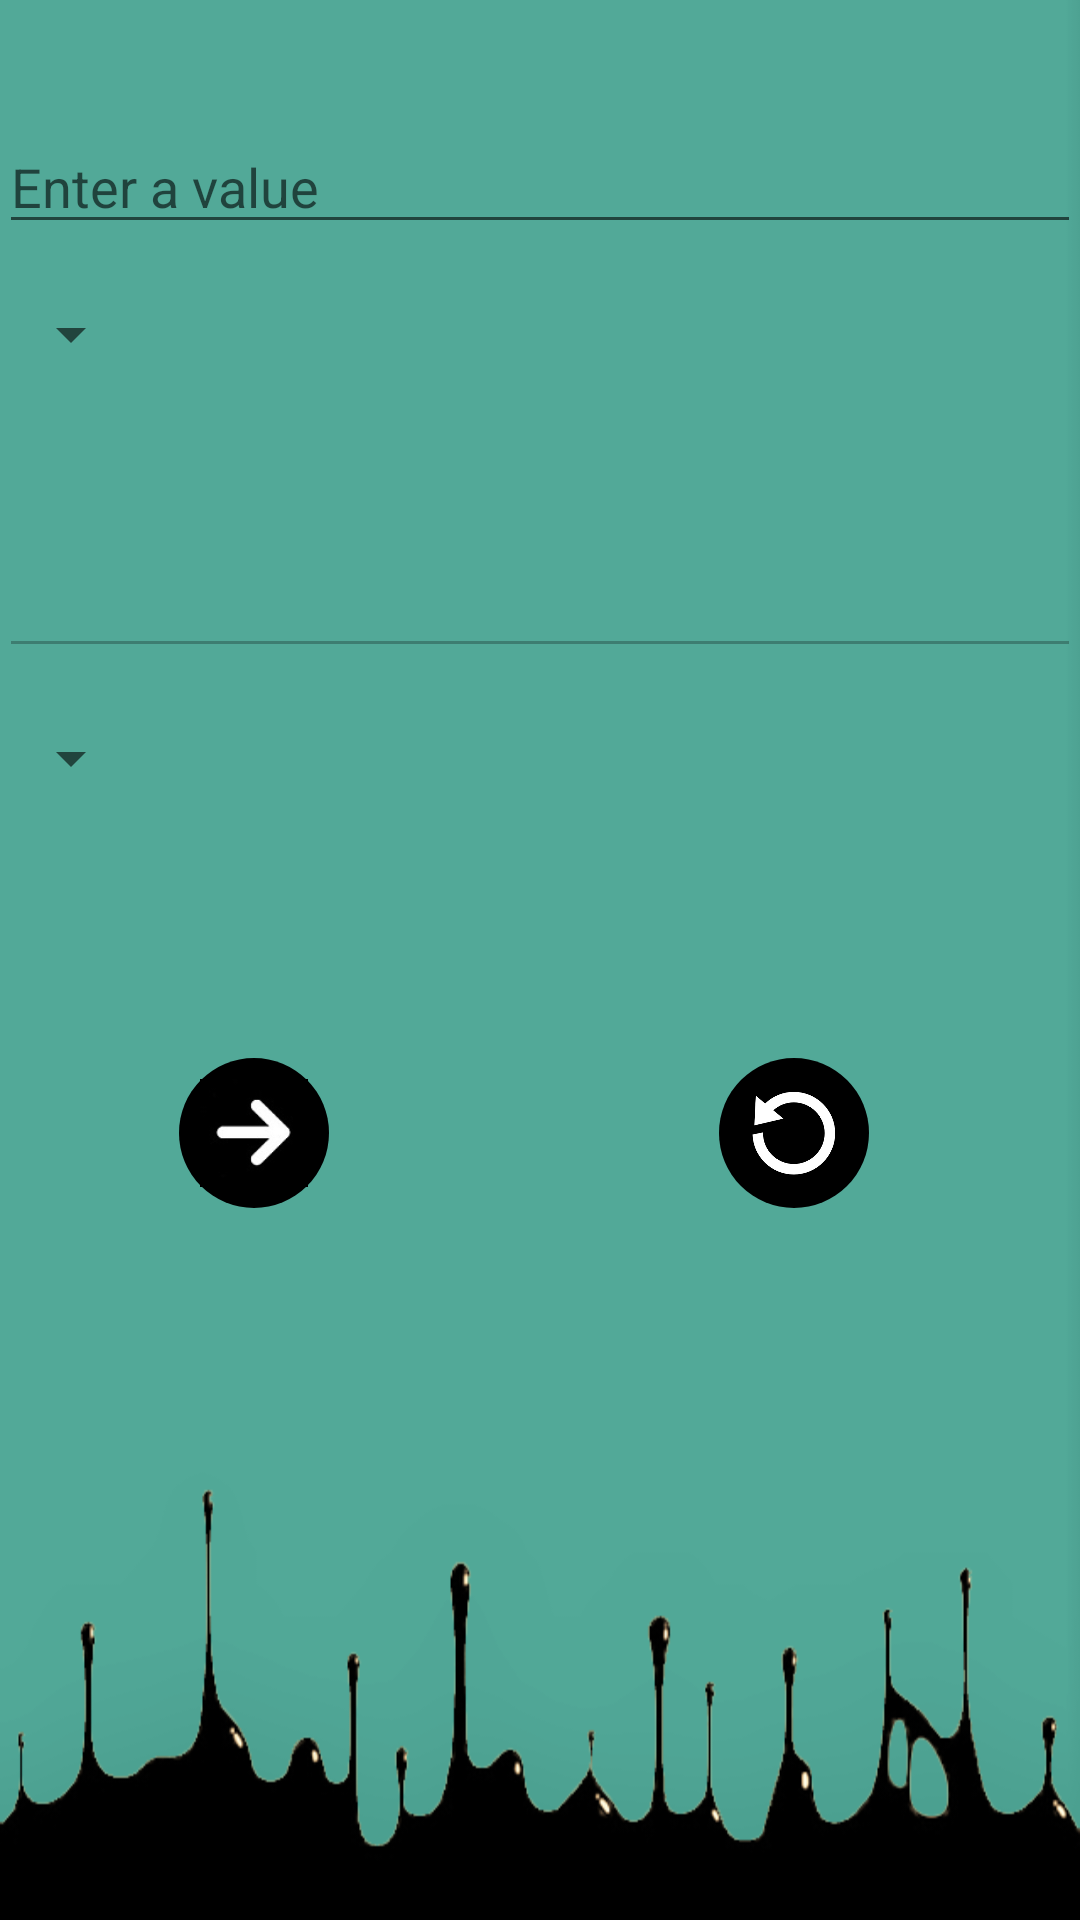

Where to tap for icons on this 1080w x 1920h app screen, as [x,y]:
next: [254,1133]
reset: [794,1133]
